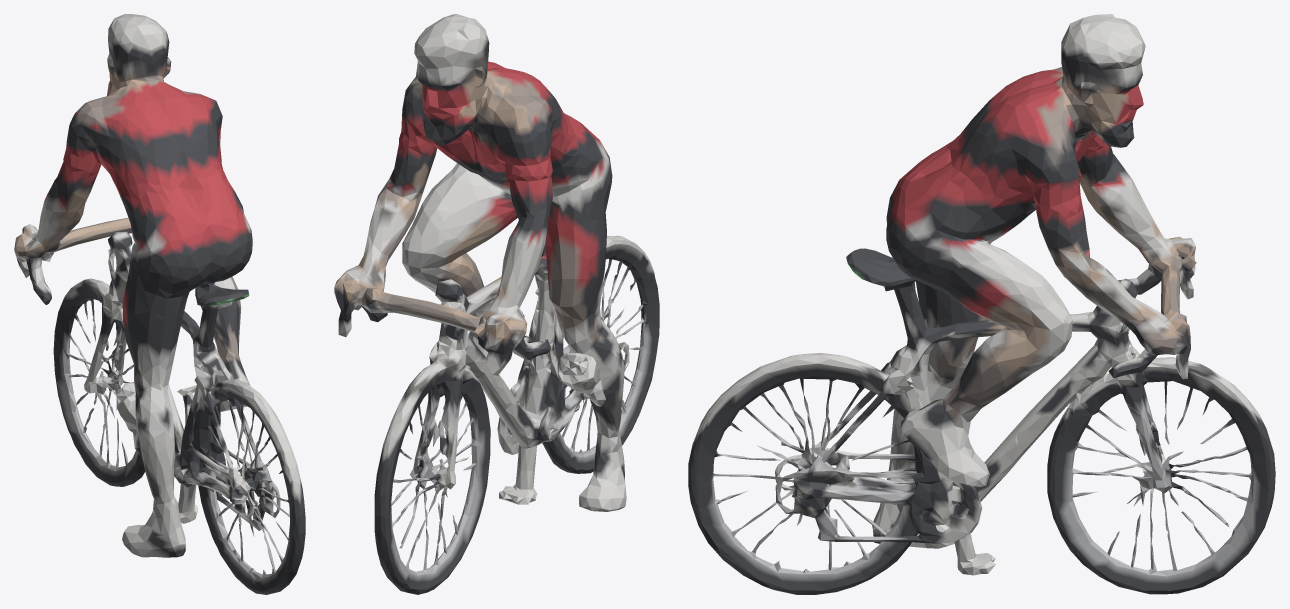
Rendered from avatar.glb.
3 views of the same model, side by side, from view 1: azimuth 30°, elevation 25°; view 2: azimuth 150°, elevation 25°; view 3: azimuth 270°, elevation 25° (orthographic). The views are drawn at different scales.
Parts seen in each view (by area): view 1: geometry_0; view 2: geometry_0; view 3: geometry_0.
Part boxes in pixels (x1,y1,x2,y2): geometry_0: [14, 14, 305, 594]; geometry_0: [334, 14, 659, 594]; geometry_0: [688, 14, 1275, 594].
Bounding box in the file's own units: 0.7223 × 1.95 × 1.8.
